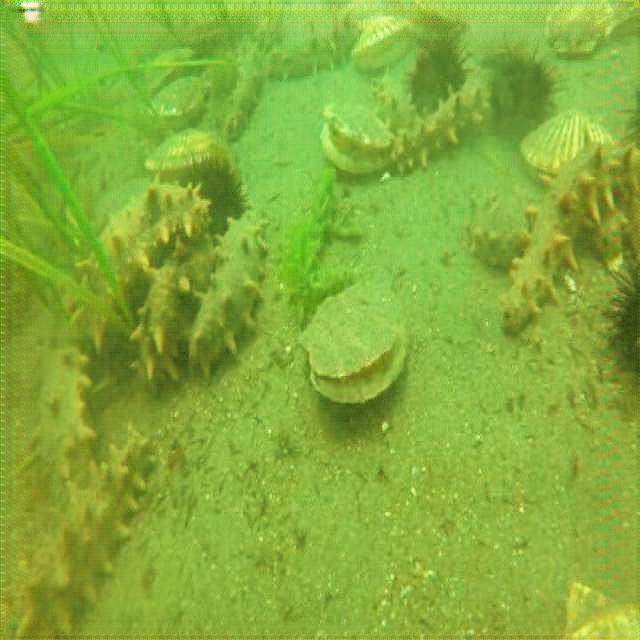echinus: (484, 35, 564, 136), (607, 242, 640, 411), (407, 35, 473, 112), (189, 152, 247, 230)
holothurian: (11, 423, 157, 640), (498, 132, 628, 336), (72, 182, 212, 362), (188, 210, 268, 386), (132, 234, 216, 395), (34, 329, 98, 499), (393, 76, 483, 182), (268, 19, 356, 85), (468, 182, 532, 267), (223, 43, 273, 142), (376, 63, 418, 139)
scallop: (294, 269, 410, 409), (319, 85, 396, 188), (521, 102, 619, 182), (541, 0, 619, 60), (144, 125, 225, 180), (349, 10, 412, 74), (148, 66, 208, 125), (408, 0, 473, 43)
